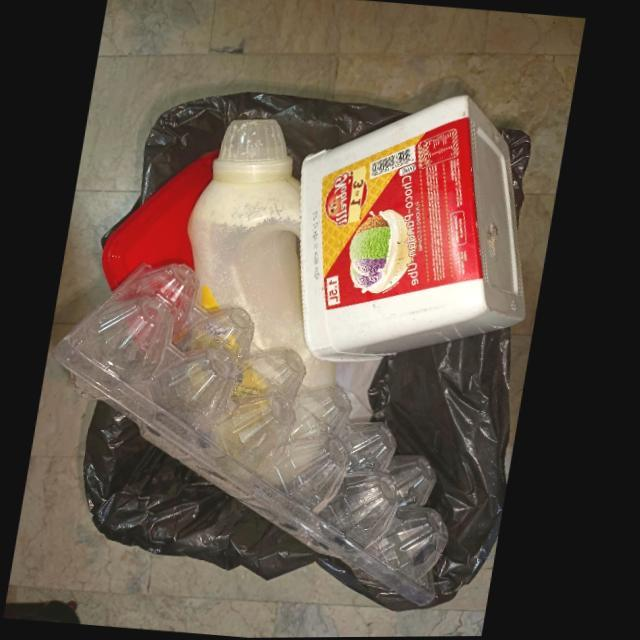plastic: (57, 264, 457, 609), (302, 96, 530, 363), (190, 119, 342, 390)
